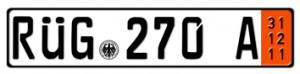0: (181, 16, 204, 60)
2: (126, 16, 148, 60)
7: (153, 16, 175, 60)
A: (235, 16, 259, 60)
G: (70, 16, 94, 60)
R: (12, 15, 36, 60)
ue: (40, 16, 66, 61)
